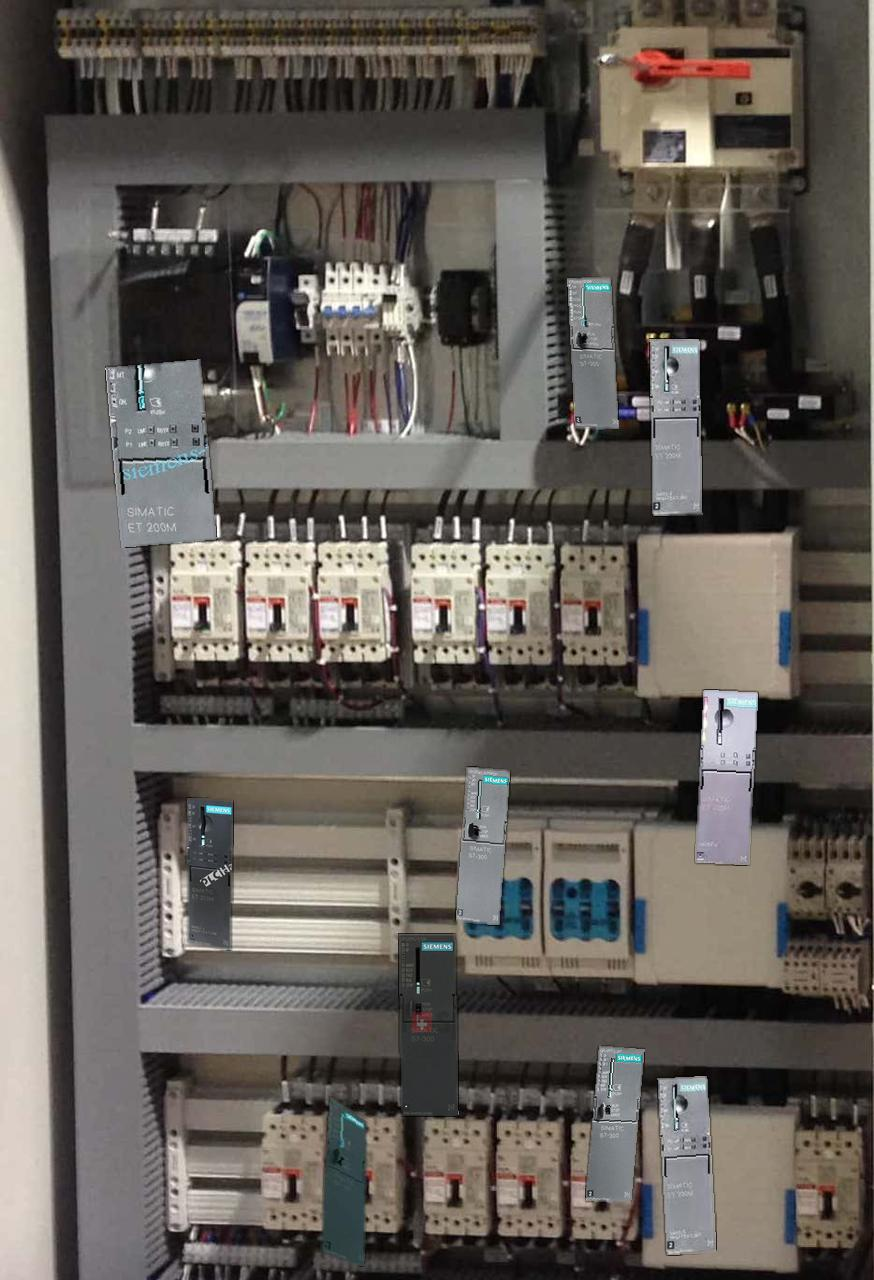Siemens: (398, 934, 458, 1115), (585, 1046, 644, 1201), (456, 767, 509, 924), (567, 278, 618, 428), (321, 1097, 366, 1265)
